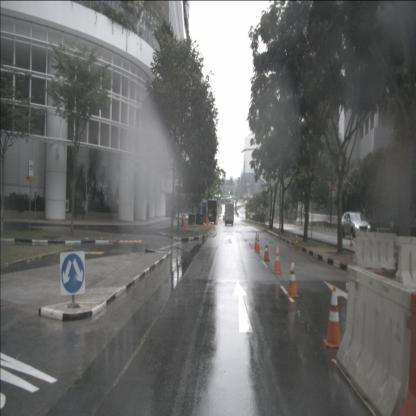barrier: (336, 264, 416, 416), (352, 232, 396, 276), (394, 236, 416, 294), (187, 214, 196, 226), (196, 214, 204, 225), (181, 214, 186, 227)
cone: (323, 286, 344, 349), (286, 256, 300, 298), (272, 244, 283, 274), (262, 238, 270, 263), (255, 234, 261, 254), (253, 232, 259, 251), (294, 234, 299, 250), (350, 233, 354, 250), (183, 215, 186, 227), (185, 218, 188, 228), (203, 222, 207, 227)
